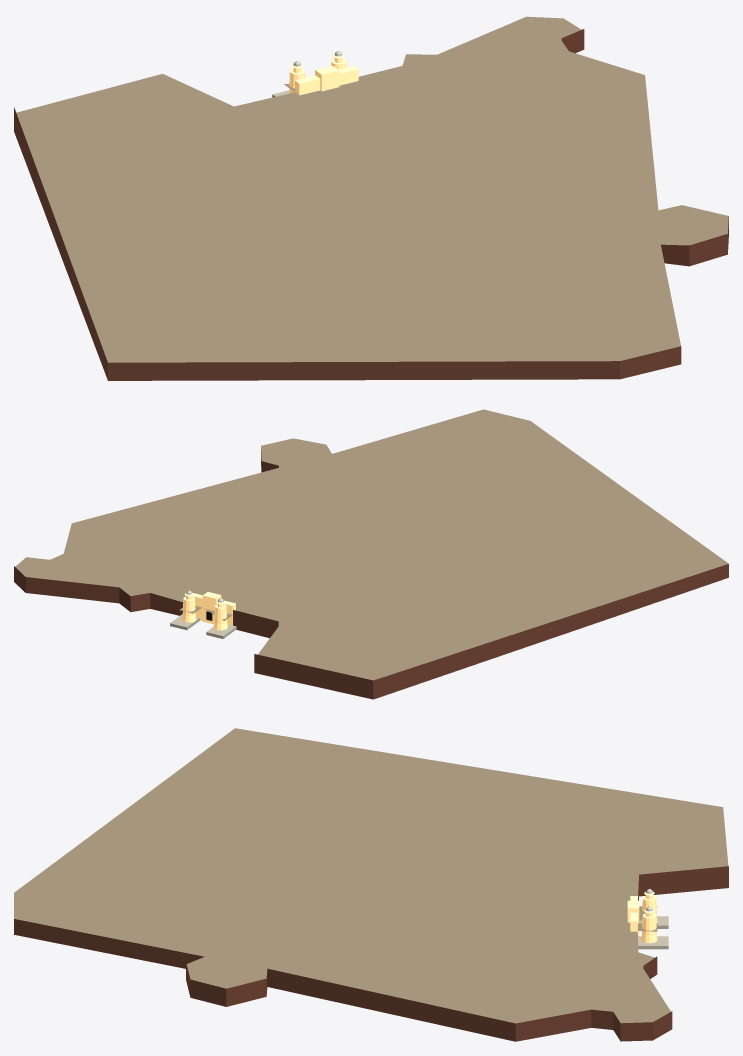
Rendered from lahore_fort_alamgiri_gate_far.glb.
3 renders of one model, top to bottom at view 1: azimuth 30°, elevation 25°; view 2: azimuth 150°, elevation 25°; view 3: azimuth 270°, elevation 25°, orthographic. The views are drawn at different scales.
Visible parts, largest first — view 1: m_fort_ground, m_rampart_brick, m_gate_plaster; view 2: m_fort_ground, m_rampart_brick, m_gate_plaster, m_podium; view 3: m_fort_ground, m_rampart_brick, m_gate_plaster.
Part boxes in pixels (x1=…): m_fort_ground: x1=16, y1=16, x2=728, y2=362; m_rampart_brick: x1=14, y1=29, x2=728, y2=380; m_gate_plaster: x1=289, y1=54, x2=358, y2=95; m_fort_ground: x1=15, y1=409, x2=728, y2=680; m_rampart_brick: x1=14, y1=450, x2=728, y2=699; m_gate_plaster: x1=182, y1=592, x2=235, y2=630; m_podium: x1=170, y1=614, x2=236, y2=638; m_fort_ground: x1=14, y1=728, x2=728, y2=1023; m_rampart_brick: x1=14, y1=866, x2=728, y2=1041; m_gate_plaster: x1=627, y1=891, x2=657, y2=943.
Size of the model in its own units: 541 by 31.6 by 549.
